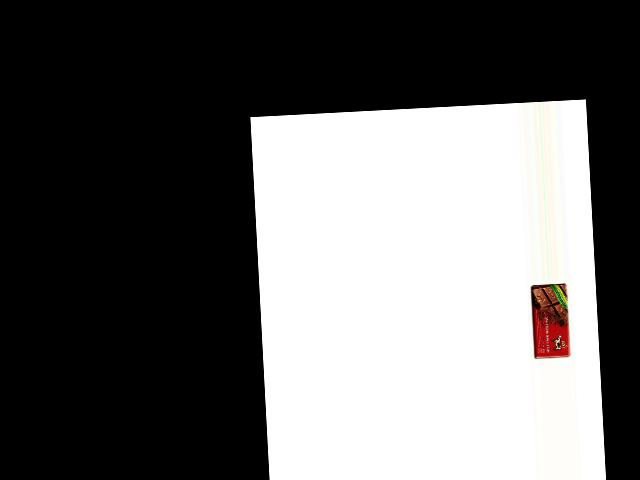chocolate: (529, 282, 571, 360)
